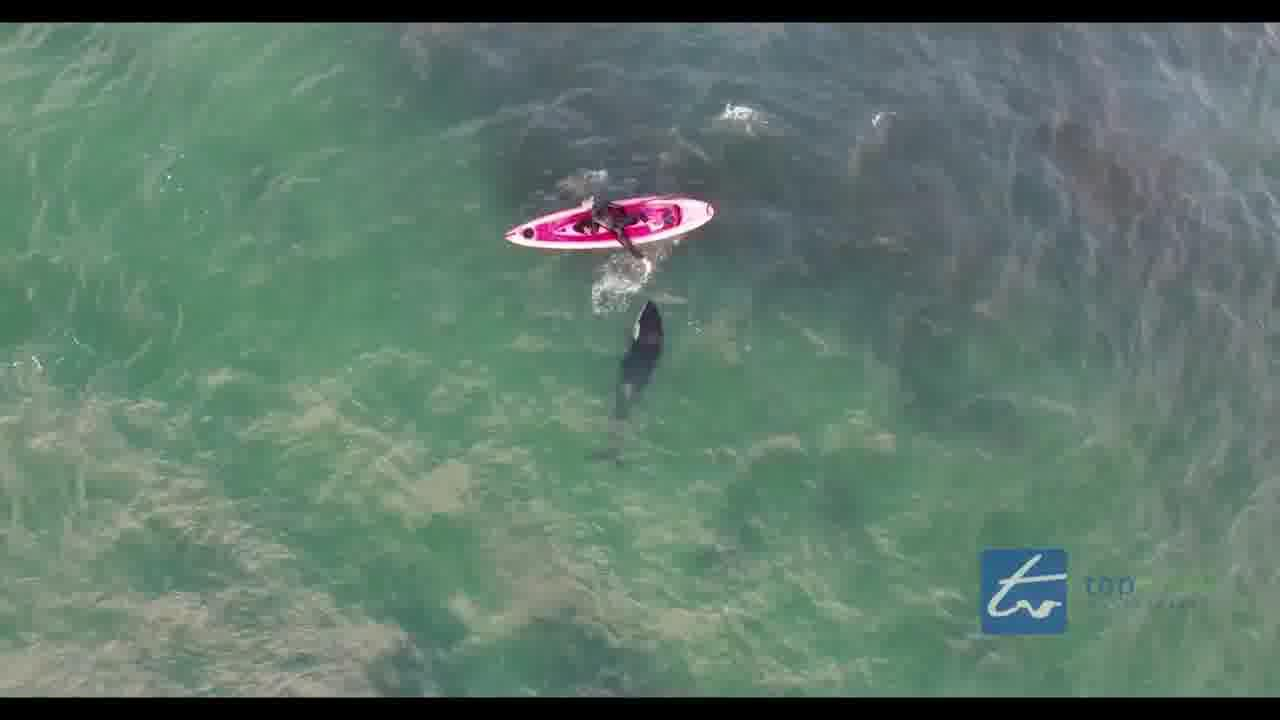swimmer: (573, 197, 641, 240)
